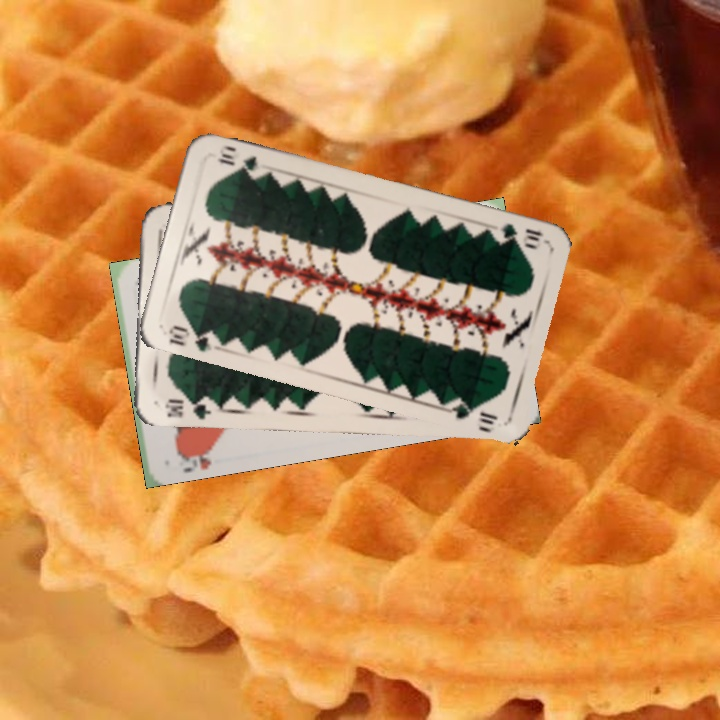G10: (164, 321, 221, 354), (161, 394, 214, 421), (497, 219, 545, 247)
HO: (173, 441, 218, 473)
